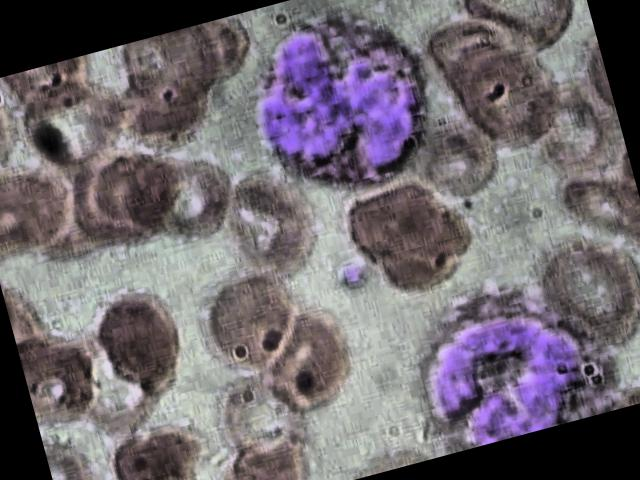Platelets: (336, 256, 376, 294)
WBC: (222, 0, 461, 217), (384, 262, 624, 460)
